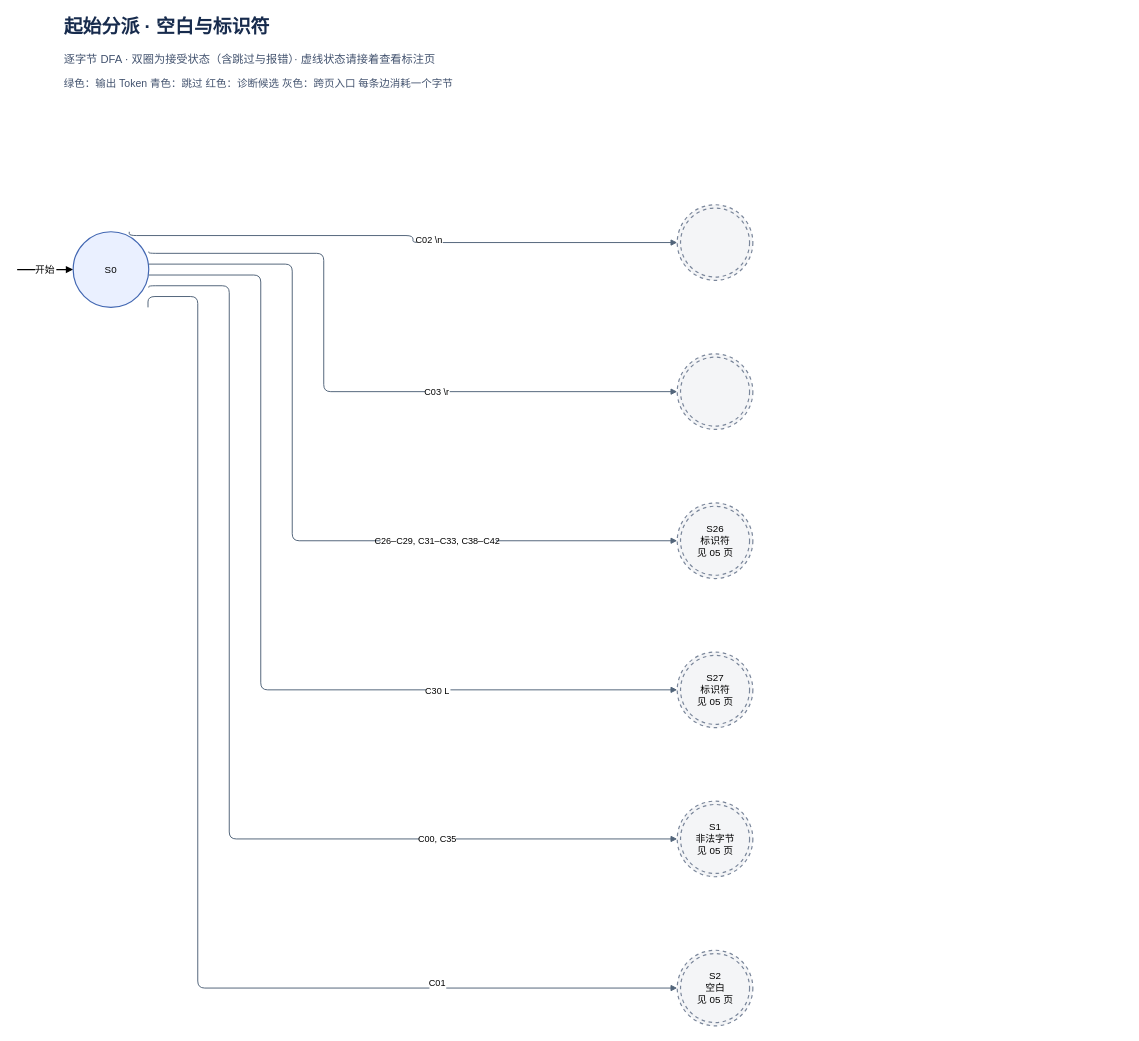
Image size: 1139x1041. Some labels were removed from this diagram. Here are the shapes that lost their labels. From the top down, the centre of each, then its label:
point 714,242: S3 换行 见 05 页
point 714,391: S4 换行 见 05 页
